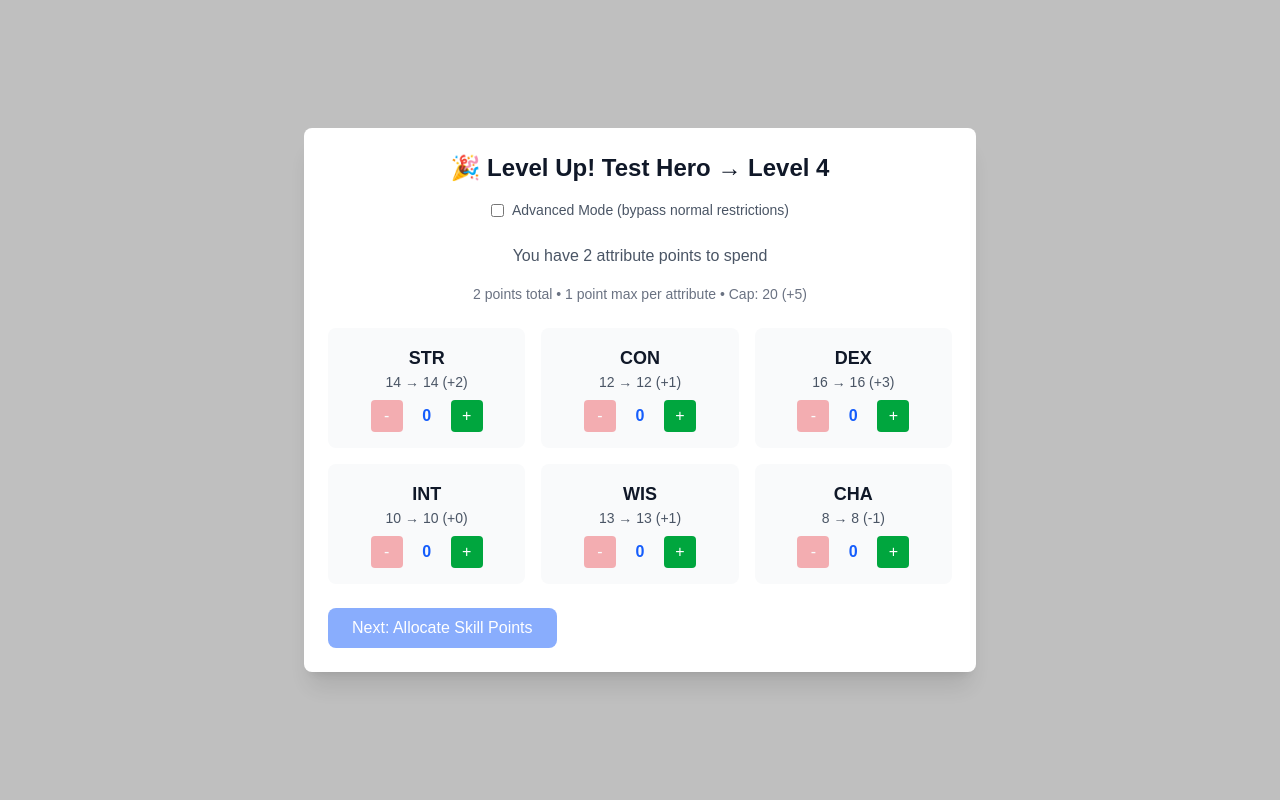
Test: LevelUpModal › Attributes Step - Normal Mode › allows adding points to attributes within normal mode rules
Note: Click + button for STR
Click the 1st button "+" at (467, 416), box [451,400,483,432]
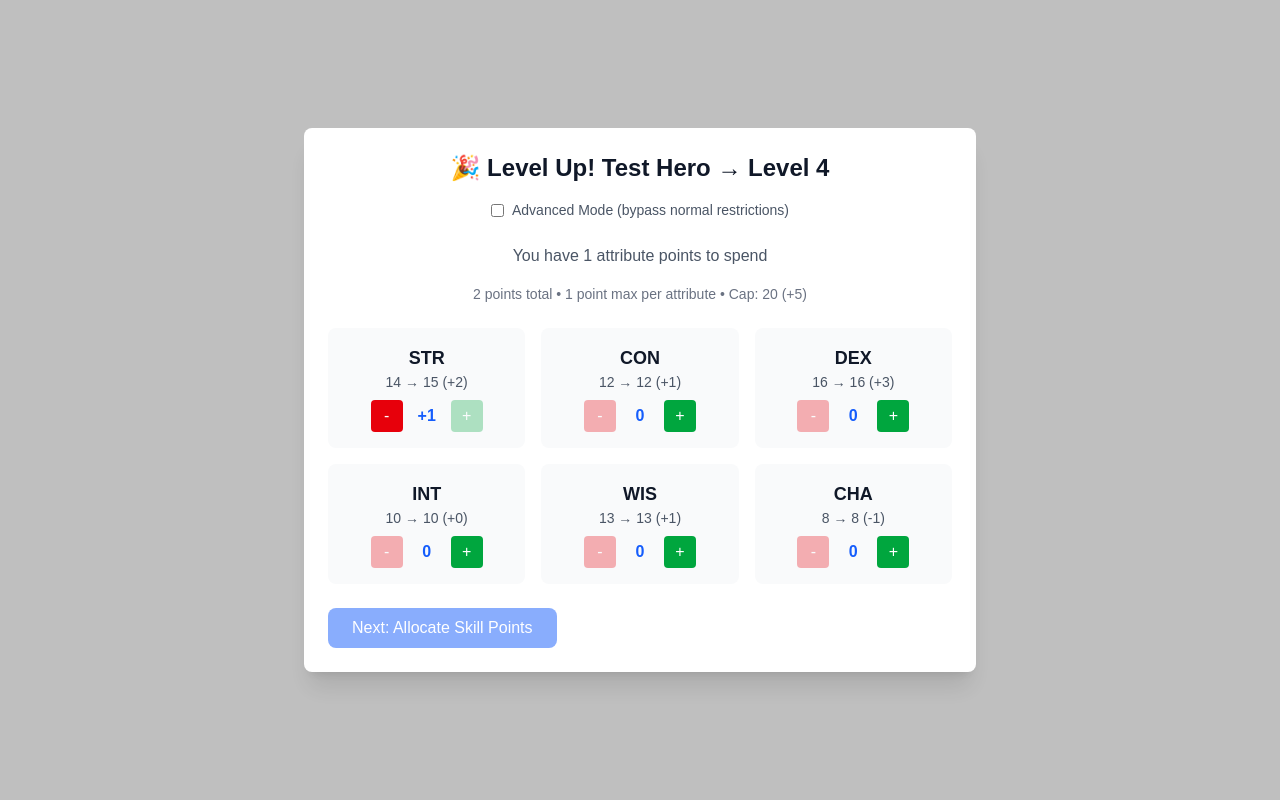
Expected: the text "14 → 15 (+2)" is shown, [386,374,468,390]
Expected: the text "You have 1 attribute points to spend" is shown, [513,247,767,264]
